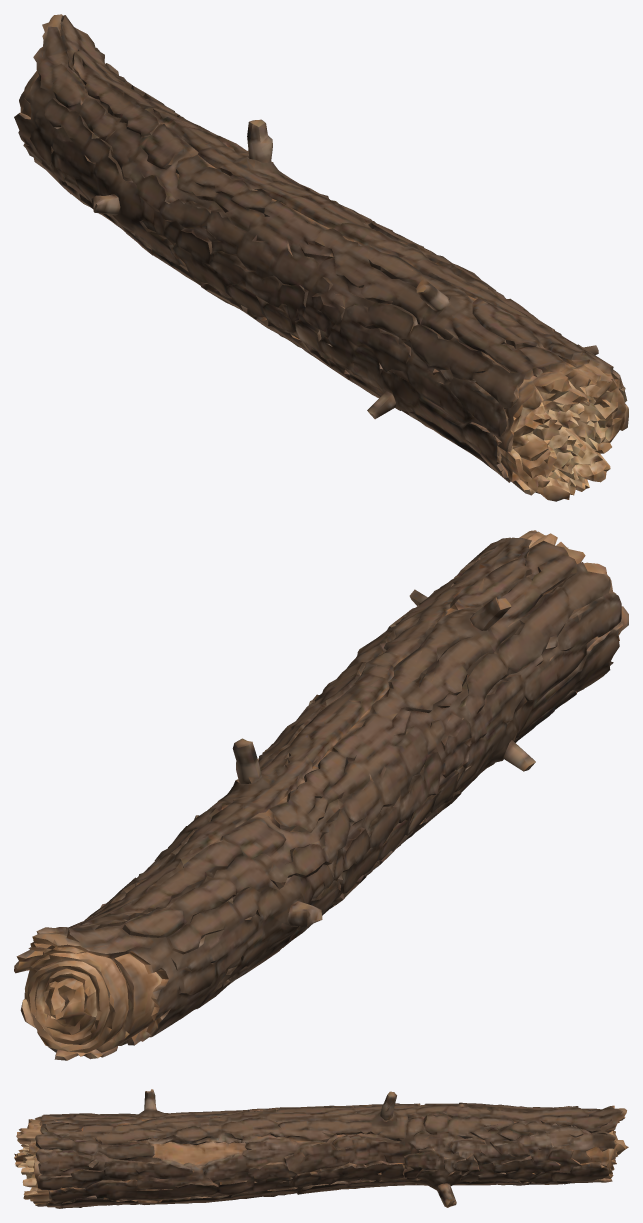
File: LogPine.glb
3 renders of one model, top to bottom at view 1: azimuth 30°, elevation 25°; view 2: azimuth 150°, elevation 25°; view 3: azimuth 270°, elevation 25°, orthographic. The views are drawn at different scales.
Parts seen in each view (by area): view 1: LogPine; view 2: LogPine; view 3: LogPine.
Boxes of the visible parts, x1,y1,x2,y2 form: LogPine: (14, 14, 628, 501); LogPine: (14, 530, 628, 1060); LogPine: (14, 1089, 628, 1208).
Size of the model in its own units: 0.8754 by 0.6841 by 3.61.
1 material, 1 textured.
